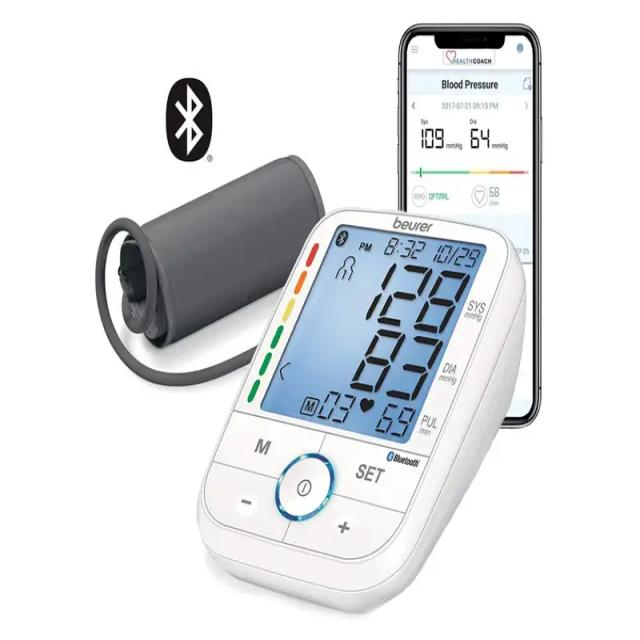dia: (343, 307, 447, 415)
pul: (365, 394, 420, 445)
ssd: (261, 189, 487, 465)
sys: (358, 255, 476, 341)
